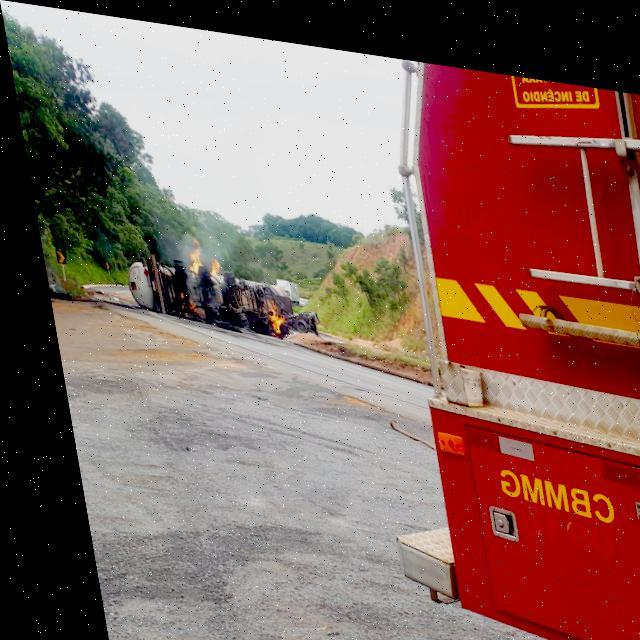Fire: (176, 233, 199, 270), (256, 296, 280, 328), (198, 251, 215, 271)
